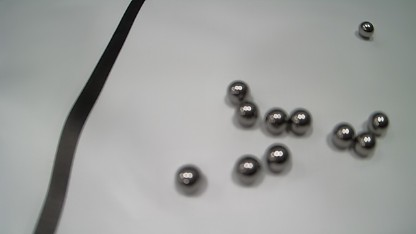ironball: (175, 164, 201, 194), (235, 155, 261, 184), (265, 143, 290, 173), (331, 122, 355, 149), (264, 108, 288, 135), (235, 101, 259, 127), (289, 108, 312, 135), (353, 132, 376, 157), (367, 111, 389, 136), (227, 80, 249, 105), (358, 21, 374, 38)
